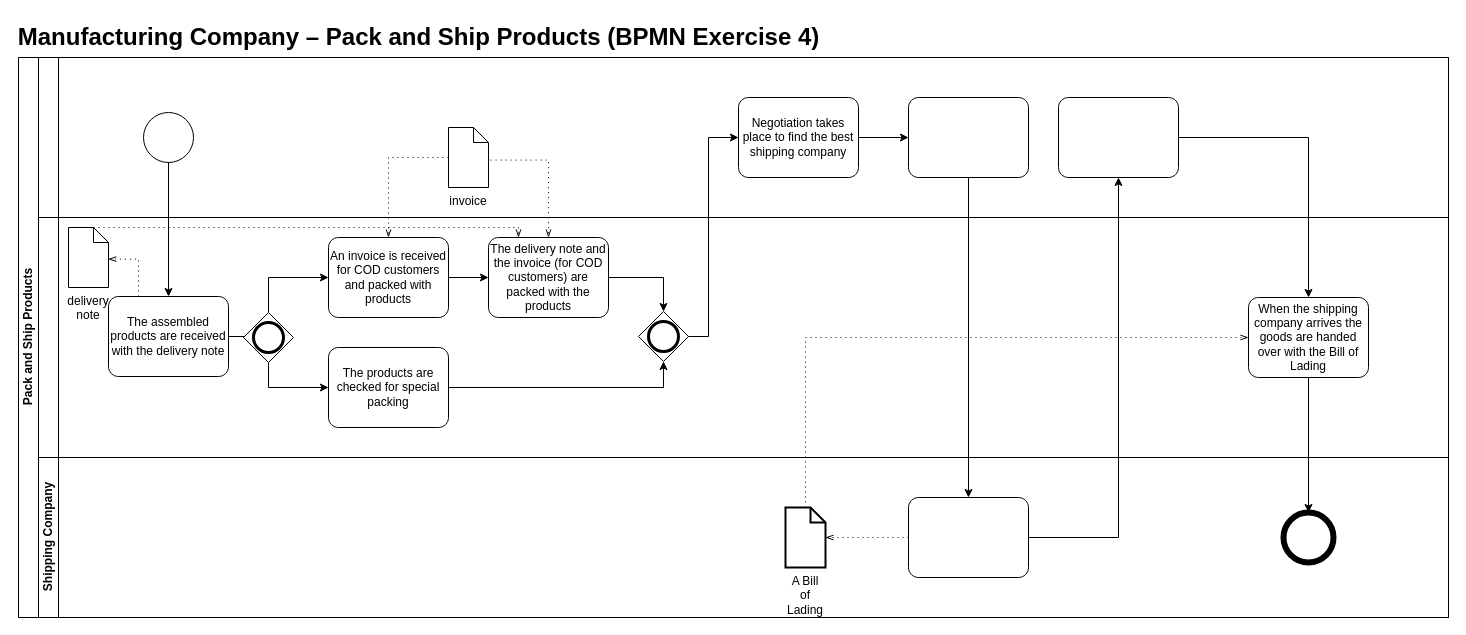
The diagram is 1466 pixels wide and 635 high, and some of its shapes have lost their labels. The box of each missing label's shape, as (x1, y1, x2, y2) in pixels:
A Bill of Lading is produced: (908, 496, 1028, 578)
Get the Bill of Lading: (1058, 96, 1178, 178)
Manufacturing Company: (38, 56, 1448, 218)
The appropriate shipping company is selected and ordered: (908, 96, 1028, 178)
Warehouse: (38, 216, 1448, 458)
